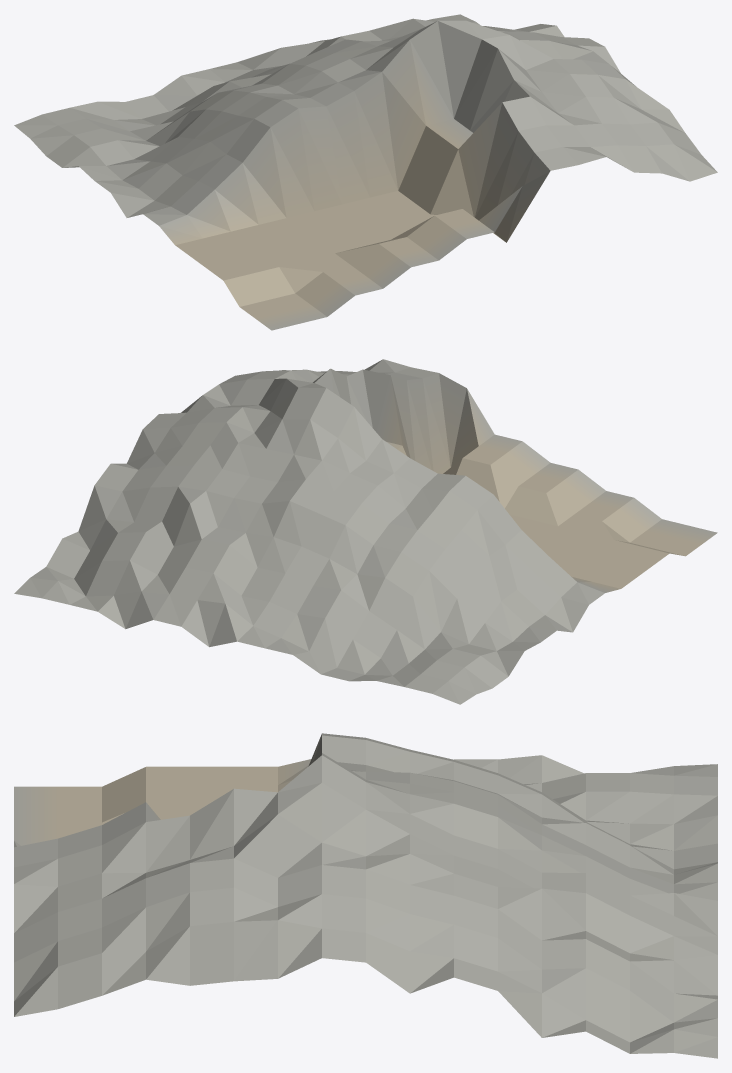
3 views of the same model, one above another, from view 1: azimuth 30°, elevation 25°; view 2: azimuth 150°, elevation 25°; view 3: azimuth 270°, elevation 25° (orthographic). The views are drawn at different scales.
Bounding box in the file's own units: 32 × 10.91 × 32.
